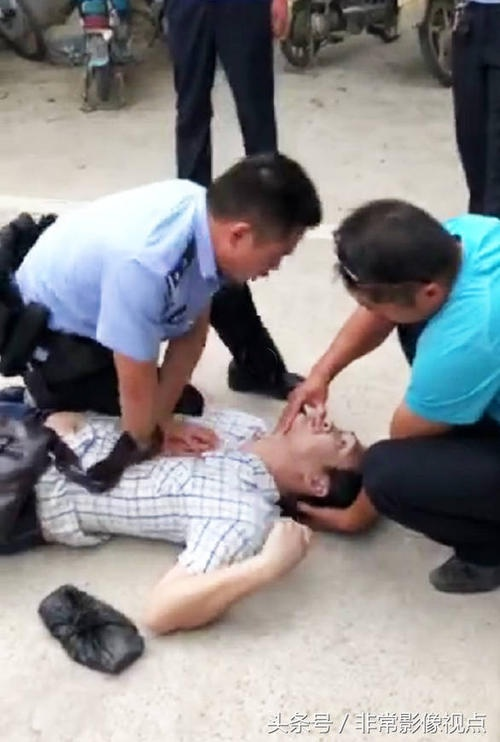falling: (0, 364, 386, 669)
